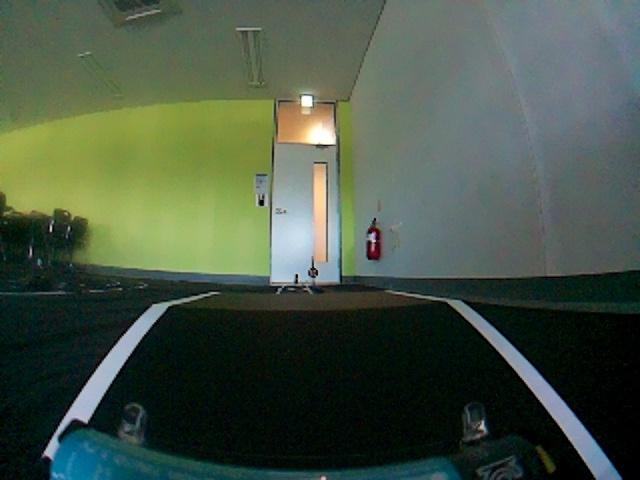go: (125, 283, 477, 302)
hill_up: (37, 306, 606, 480)
